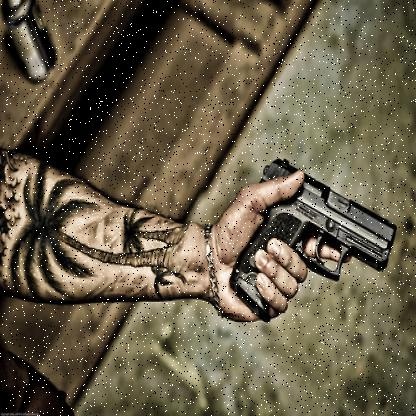pistol: (226, 158, 397, 317)
